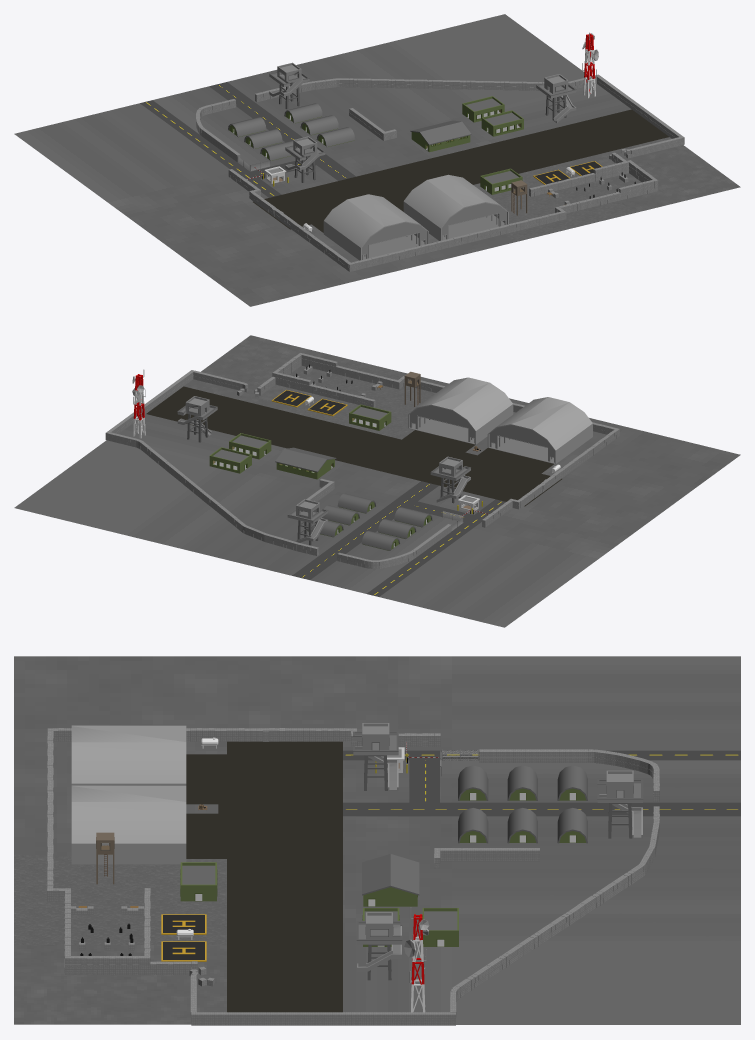
Rendered from unturned_militairy_base_3d_model.glb.
3 views of the same model, one above another, from view 1: azimuth 30°, elevation 25°; view 2: azimuth 150°, elevation 25°; view 3: azimuth 270°, elevation 25° (orthographic). The views are drawn at different scales.
Parts seen in each view (by area): view 1: Plane_2, Model_0_1_0, Model_0_1.001_1, Model_0.032_841, Model_0.030_697, Model_0.050_946, Model_0.040_892, Model_0.028_839, Model_0.031_840, Model_0.033_838, Model_0.029_695, Model_0.035_888 (+4 smaller); view 2: Plane_2, Model_0_1_0, Model_0_1.001_1, Model_0.032_841, Model_0.040_892, Model_0.050_946, Model_0.030_697, Model_0.033_838, Model_0.031_840, Model_0.028_839, Model_0.029_695, Model_0.036_886 (+4 smaller); view 3: Plane_2, Model_0_1.001_1, Model_0_1_0, Model_0.032_841, Model_0.050_946, Model_0.040_892, Model_0.030_697, Model_0.033_838, Model_0.031_840, Model_0.029_695, Model_0.037_889, Model_0.038_890 (+6 smaller).
Boxes of the visible parts, x1=… form: Plane_2: x1=14, y1=14, x2=740, y2=306; Model_0_1_0: x1=323, y1=194, x2=428, y2=260; Model_0_1.001_1: x1=403, y1=174, x2=508, y2=240; Model_0.032_841: x1=410, y1=120, x2=471, y2=152; Model_0.030_697: x1=536, y1=74, x2=576, y2=122; Model_0.050_946: x1=269, y1=62, x2=309, y2=109; Model_0.040_892: x1=285, y1=136, x2=325, y2=182; Model_0.028_839: x1=481, y1=110, x2=523, y2=136; Model_0.031_840: x1=462, y1=96, x2=504, y2=122; Model_0.033_838: x1=480, y1=168, x2=522, y2=194; Model_0.029_695: x1=582, y1=32, x2=598, y2=98; Model_0.035_888: x1=284, y1=103, x2=322, y2=123; Plane_2: x1=14, y1=335, x2=740, y2=627; Model_0_1_0: x1=487, y1=397, x2=592, y2=464; Model_0_1.001_1: x1=408, y1=377, x2=513, y2=444; Model_0.032_841: x1=275, y1=447, x2=336, y2=479; Model_0.040_892: x1=430, y1=456, x2=470, y2=503; Model_0.050_946: x1=287, y1=499, x2=328, y2=545; Model_0.030_697: x1=177, y1=396, x2=217, y2=442; Model_0.033_838: x1=349, y1=404, x2=391, y2=430; Model_0.031_840: x1=209, y1=447, x2=251, y2=473; Model_0.028_839: x1=229, y1=433, x2=271, y2=459; Model_0.029_695: x1=132, y1=369, x2=145, y2=438; Model_0.036_886: x1=337, y1=493, x2=376, y2=513; Plane_2: x1=14, y1=656, x2=740, y2=1024; Model_0_1.001_1: x1=71, y1=784, x2=186, y2=864; Model_0_1_0: x1=71, y1=725, x2=186, y2=784; Model_0.032_841: x1=362, y1=854, x2=419, y2=906; Model_0.050_946: x1=597, y1=770, x2=643, y2=838; Model_0.040_892: x1=353, y1=723, x2=398, y2=790; Model_0.030_697: x1=356, y1=912, x2=402, y2=980; Model_0.033_838: x1=180, y1=862, x2=217, y2=901; Model_0.031_840: x1=422, y1=908, x2=458, y2=946; Model_0.029_695: x1=404, y1=907, x2=429, y2=1012; Model_0.037_889: x1=458, y1=765, x2=488, y2=800; Model_0.038_890: x1=507, y1=765, x2=537, y2=800.
Size of the model in its own units: 289 by 42.69 by 241.
Materials: 28 (18 with a texture image).
